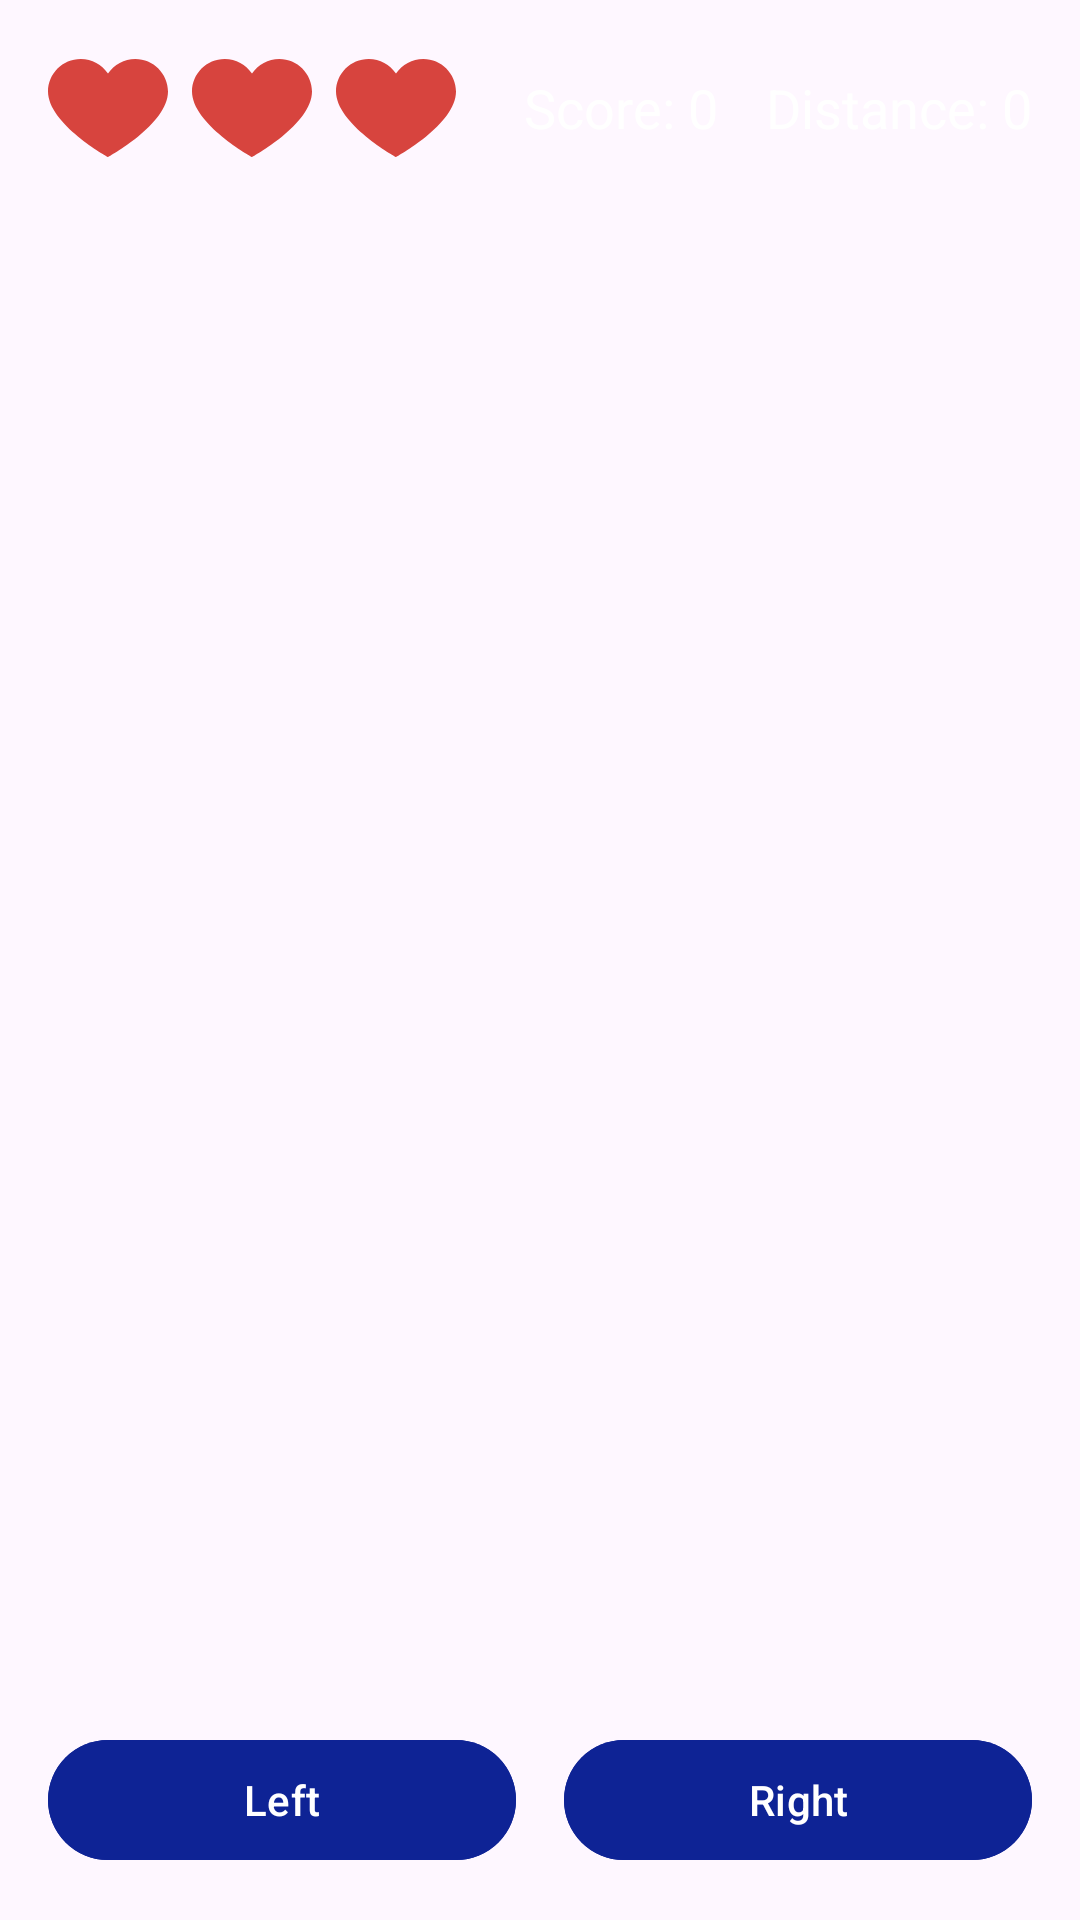

Screen size 1080 x 1920. Icon name, then its center in pixels as point (x, y):
heart: point (108, 108), point (252, 108), point (396, 108)
